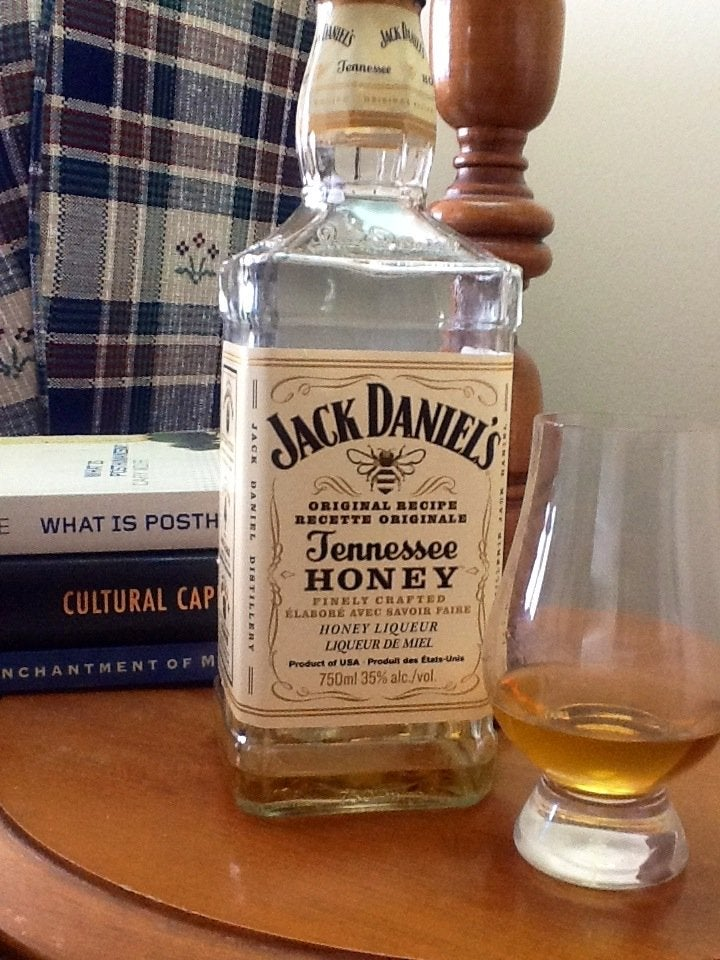Jack Daniel: (199, 4, 534, 840)
